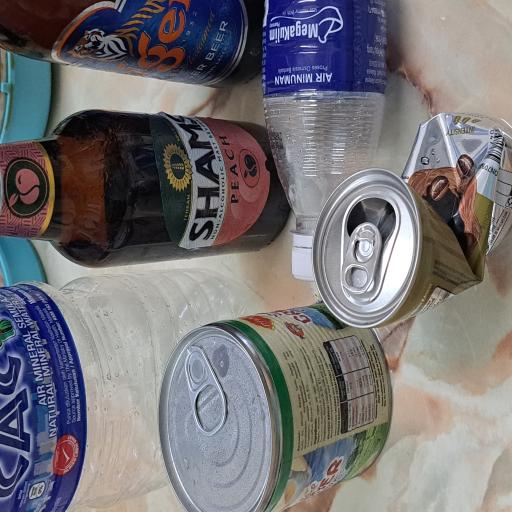can: (0, 210, 156, 512), (139, 415, 299, 512)
glass bottle: (183, 0, 302, 386), (318, 0, 384, 348)
plastic bottle: (0, 0, 180, 324), (175, 347, 383, 512)
plastic bottle cap: (175, 384, 209, 419)
pop tab: (56, 241, 126, 304), (164, 455, 218, 511)
